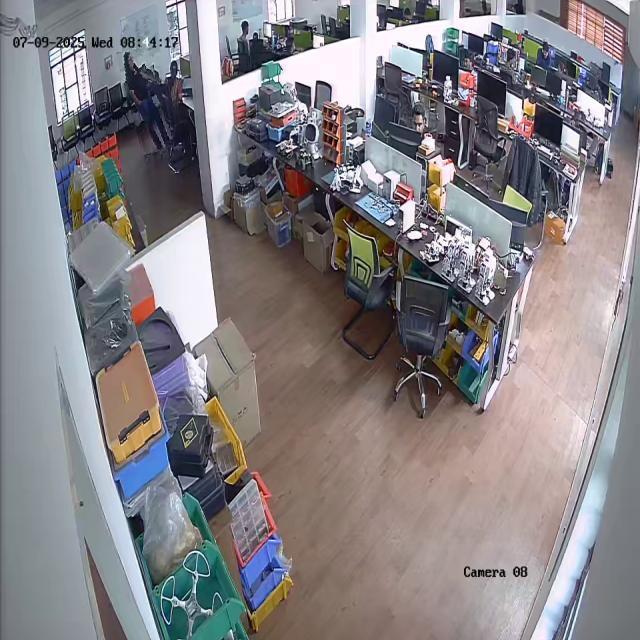person: (122, 46, 167, 154)
